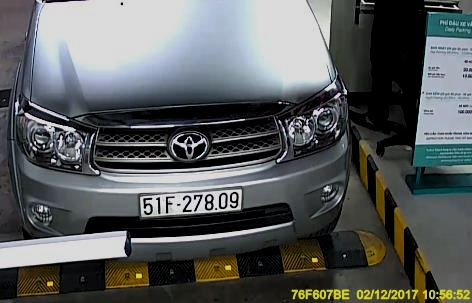plate: (134, 190, 244, 216)
